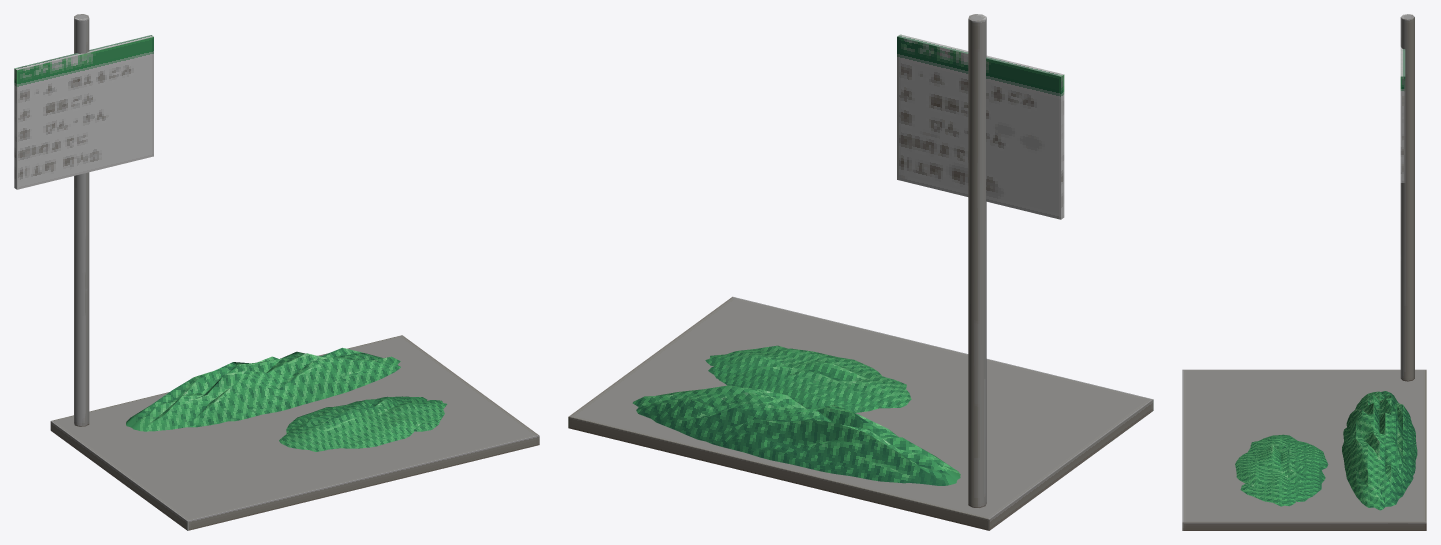
Rendered from garbagestation.glb.
The picture shows the model from 3 angles, left to right: view 1: azimuth 30°, elevation 25°; view 2: azimuth 150°, elevation 25°; view 3: azimuth 270°, elevation 25°; orthographic projection. The views are drawn at different scales.
Parts seen in each view (by area): view 1: mesh; view 2: mesh; view 3: mesh.
Part boxes in pixels (x1=…): mesh: x1=14, y1=14, x2=539, y2=530; mesh: x1=568, y1=14, x2=1153, y2=530; mesh: x1=1182, y1=14, x2=1426, y2=530.
Bounding box in the file's own units: 1.75 × 1.74 × 1.04.
Materials: 1 (1 with a texture image).
